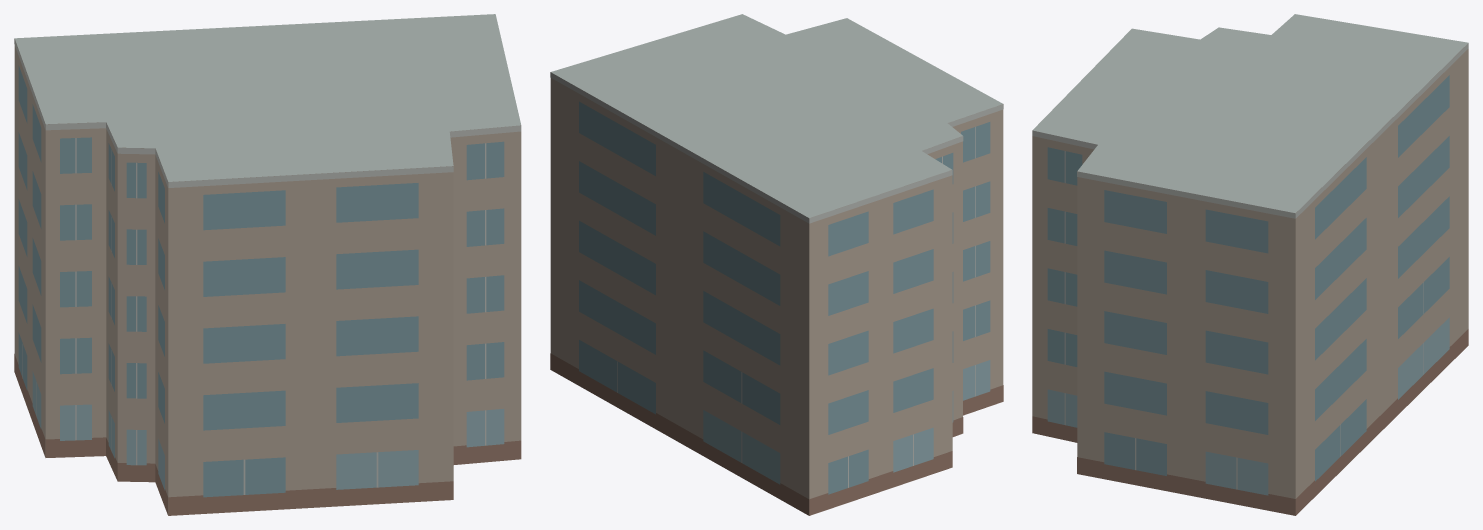
Rendered from survey-upis-32730102.glb.
3 views of the same model, side by side, from view 1: azimuth 30°, elevation 25°; view 2: azimuth 150°, elevation 25°; view 3: azimuth 270°, elevation 25° (orthographic). The views are drawn at different scales.
Visible parts, largest first — view 1: survey-upis-32730102.tmp; view 2: survey-upis-32730102.tmp; view 3: survey-upis-32730102.tmp.
Boxes of the visible parts, bbox=[...] form: survey-upis-32730102.tmp: bbox=[14, 14, 521, 515]; survey-upis-32730102.tmp: bbox=[550, 14, 1003, 515]; survey-upis-32730102.tmp: bbox=[1032, 14, 1468, 515].
Size of the model in its own units: 18.79 by 13.3 by 17.39.
